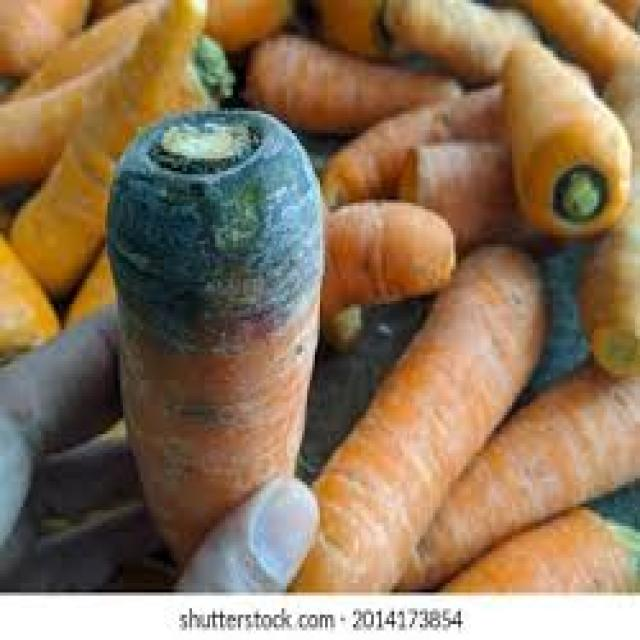Stale_Carrot: (108, 113, 322, 561)
